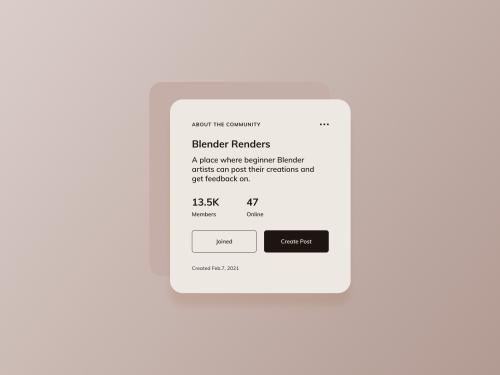button: (265, 231, 331, 253), (193, 231, 258, 253)
icon: (318, 120, 333, 131)
